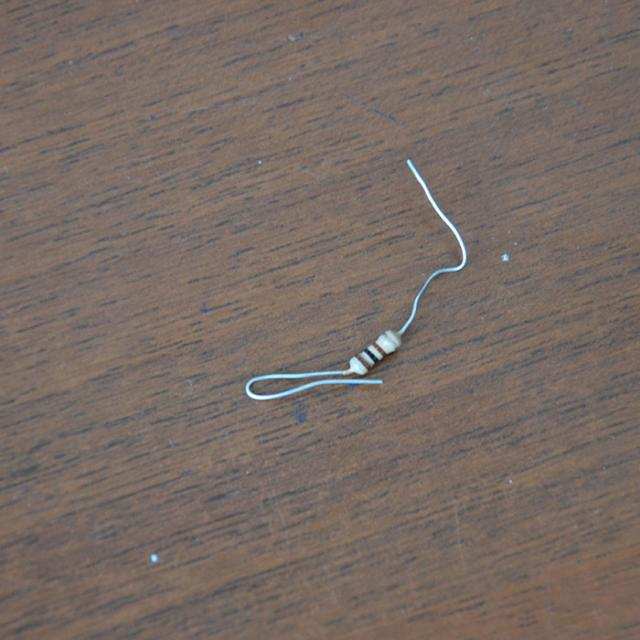Resistor Carbon-Film: (344, 325, 406, 379)
